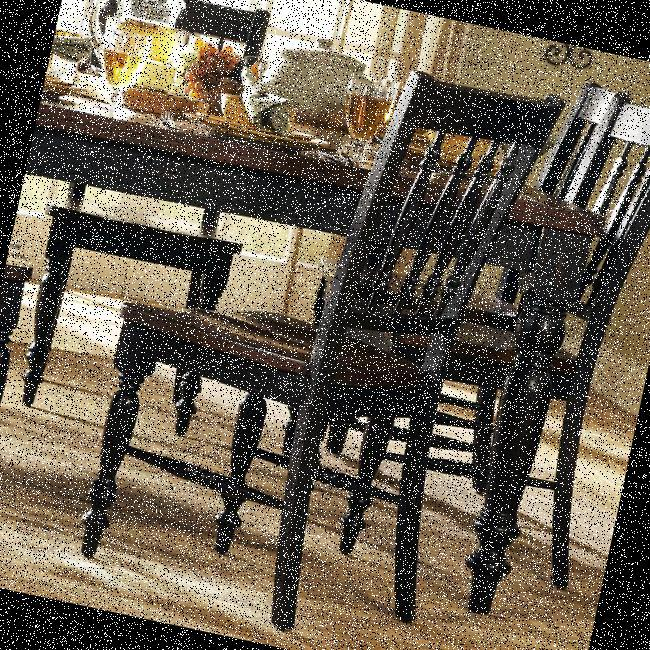Mesa: (0, 44, 601, 617)
Silla: (70, 14, 566, 649), (318, 41, 649, 606)
